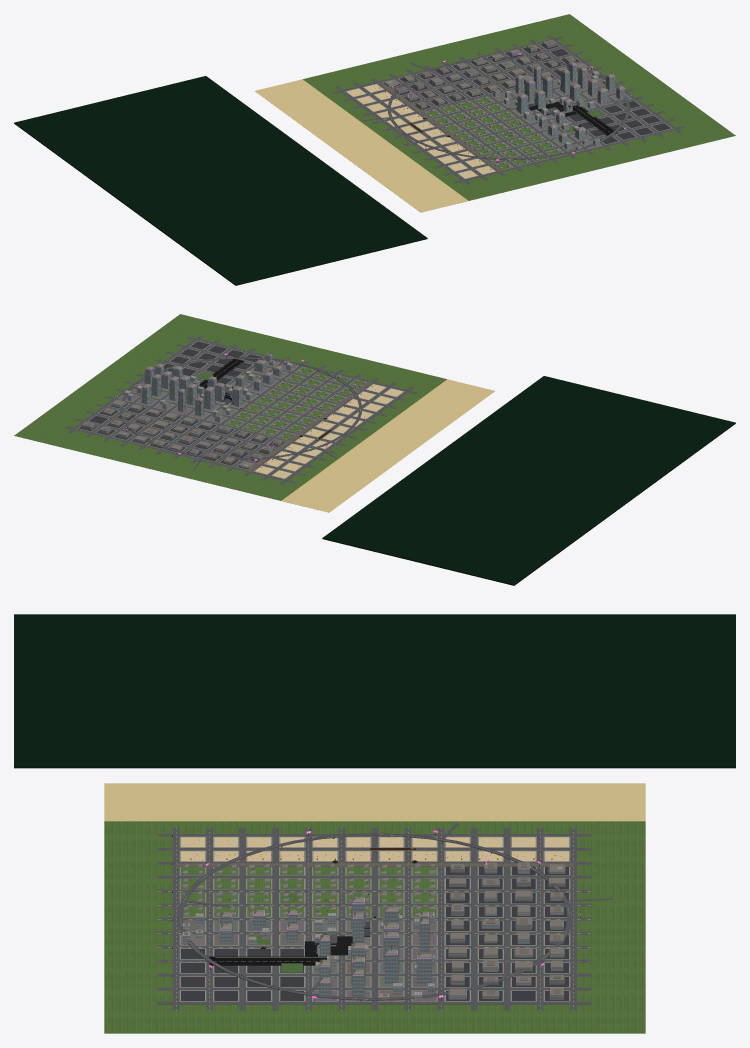
The model's file is map_los_santos.glb.
3 renders of one model, top to bottom at view 1: azimuth 30°, elevation 25°; view 2: azimuth 150°, elevation 25°; view 3: azimuth 270°, elevation 25°, orthographic. The views are drawn at different scales.
Visible parts, largest first — view 1: terrain, sidewalks, roads, highway, tower_2_0, airport, tower_1_0, beach; view 2: terrain, sidewalks, roads, highway, tower_2_0, tower_1_0, beach, airport; view 3: terrain, sidewalks, roads, highway, airport, tower_2_0, beach, markings, tower_1_0, bld_0_-2.
Boxes of the visible parts, x1=… form: terrain: x1=14, y1=14, x2=735, y2=285; sidewalks: x1=345, y1=43, x2=672, y2=178; roads: x1=332, y1=35, x2=685, y2=184; highway: x1=362, y1=57, x2=629, y2=160; tower_2_0: x1=560, y1=66, x2=598, y2=100; airport: x1=516, y1=101, x2=617, y2=135; tower_1_0: x1=524, y1=76, x2=552, y2=109; beach: x1=368, y1=81, x2=503, y2=171; terrain: x1=14, y1=314, x2=735, y2=585; sidewalks: x1=77, y1=340, x2=404, y2=478; roads: x1=64, y1=335, x2=417, y2=484; highway: x1=120, y1=357, x2=362, y2=469; tower_2_0: x1=152, y1=369, x2=190, y2=400; tower_1_0: x1=186, y1=382, x2=224, y2=409; beach: x1=246, y1=381, x2=371, y2=474; airport: x1=197, y1=359, x2=244, y2=406; terrain: x1=14, y1=614, x2=735, y2=1033; sidewalks: x1=179, y1=836, x2=570, y2=1001; roads: x1=158, y1=827, x2=591, y2=1010; highway: x1=177, y1=822, x2=612, y2=1001; airport: x1=209, y1=921, x2=370, y2=965; tower_2_0: x1=351, y1=932, x2=399, y2=984; beach: x1=176, y1=855, x2=577, y2=866; markings: x1=158, y1=828, x2=590, y2=1010; tower_1_0: x1=352, y1=906, x2=399, y2=954; bld_0_-2: x1=481, y1=905, x2=532, y2=929.
Size of the model in its own units: 3300 by 149 by 2400.
Materials: 20 (9 with a texture image).
